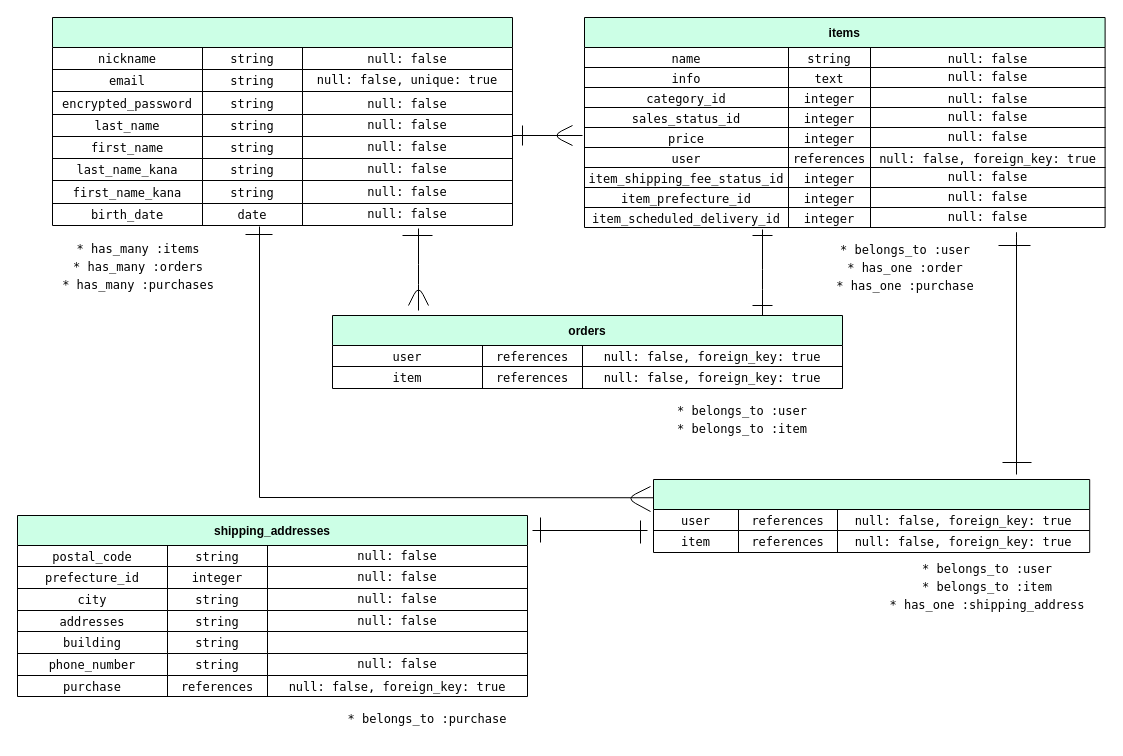
Image size: 1123x756. Some labels were removed from this diagram. The shapes that lost their labels are listed below. From the top down, each one's box as (x1, y1, x2, y2) in pixels, then its label:
(52, 16, 512, 226): users
(652, 478, 1090, 552): purchases
